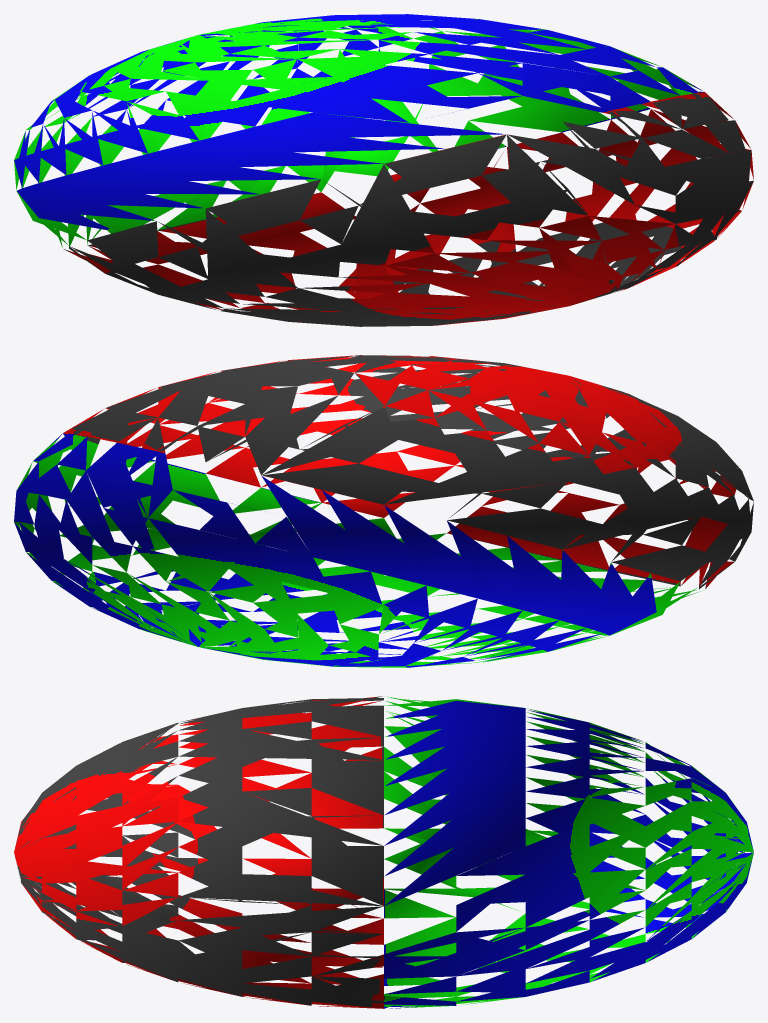
3 renders of one model, top to bottom at view 1: azimuth 30°, elevation 25°; view 2: azimuth 150°, elevation 25°; view 3: azimuth 270°, elevation 25°, orthographic.
Visible parts, largest first — view 1: test_sphere01_model_0; view 2: test_sphere01_model_0; view 3: test_sphere01_model_0.
Boxes of the visible parts, x1,y1,x2,y2 form: test_sphere01_model_0: [14, 14, 753, 326]; test_sphere01_model_0: [14, 355, 753, 667]; test_sphere01_model_0: [14, 696, 753, 1008].
Size of the model in its own units: 102 by 2 by 102.
Materials: 1 (1 with a texture image).
